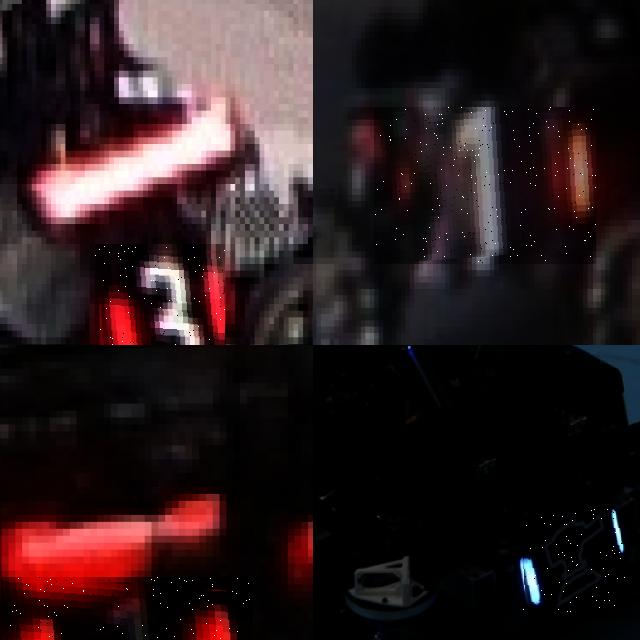Bs: (520, 509, 625, 613)
R1: (374, 107, 596, 264), (1, 577, 253, 640)
R3: (94, 244, 225, 345)
